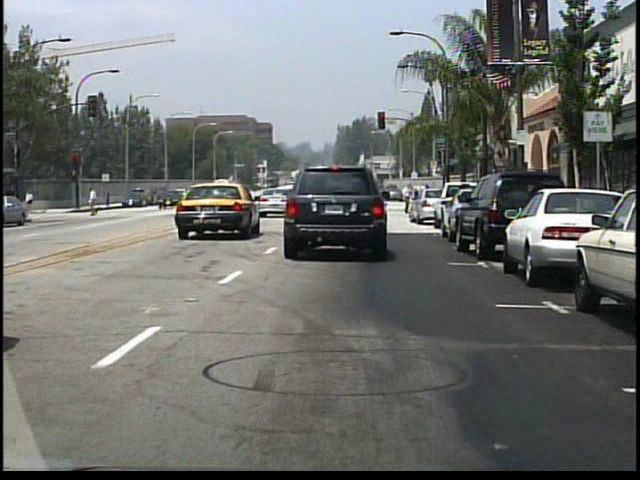person: (397, 182, 415, 216), (86, 187, 102, 218), (24, 188, 37, 214)
